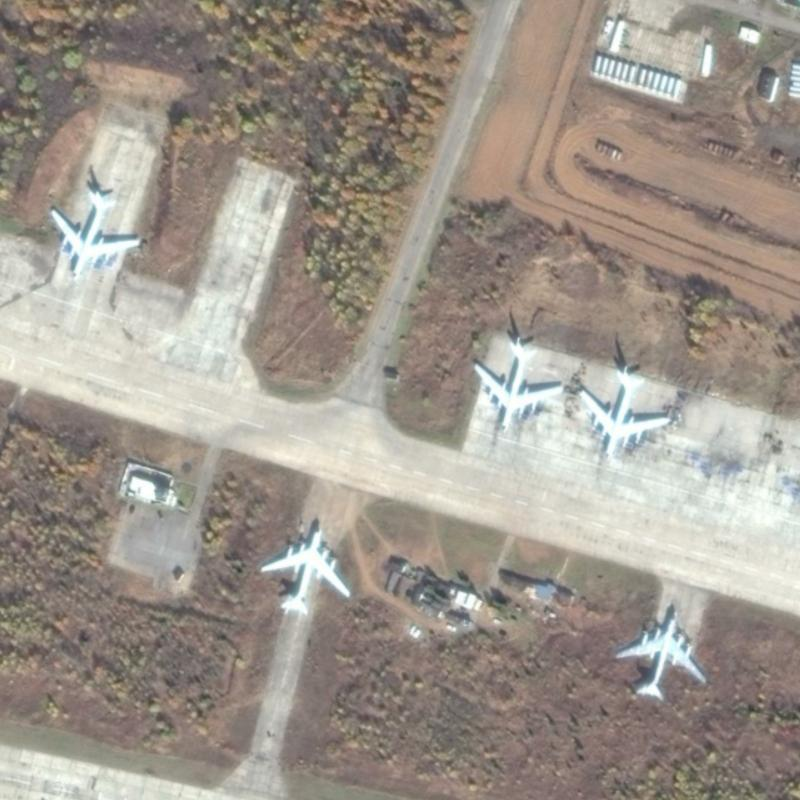A17: (571, 362, 675, 462), (609, 606, 709, 704), (470, 332, 564, 436), (43, 186, 143, 281), (257, 520, 352, 618)
